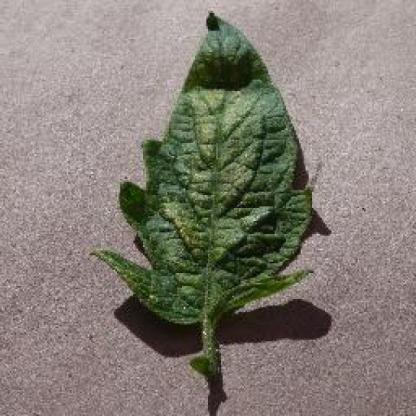Tomato_Spider_Mites: (96, 13, 316, 320)
